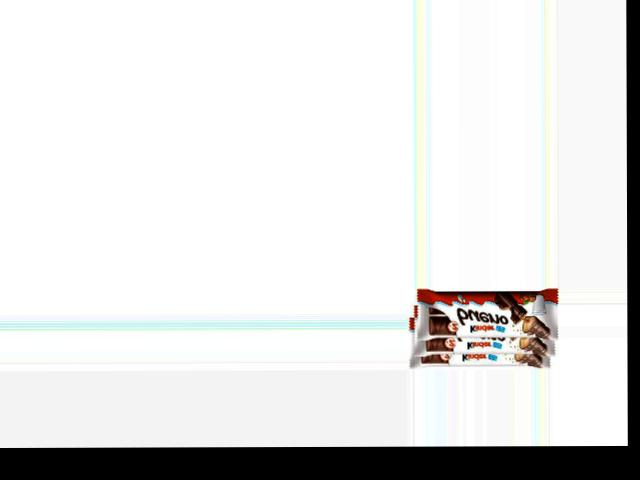chocolate: (410, 287, 555, 368)
